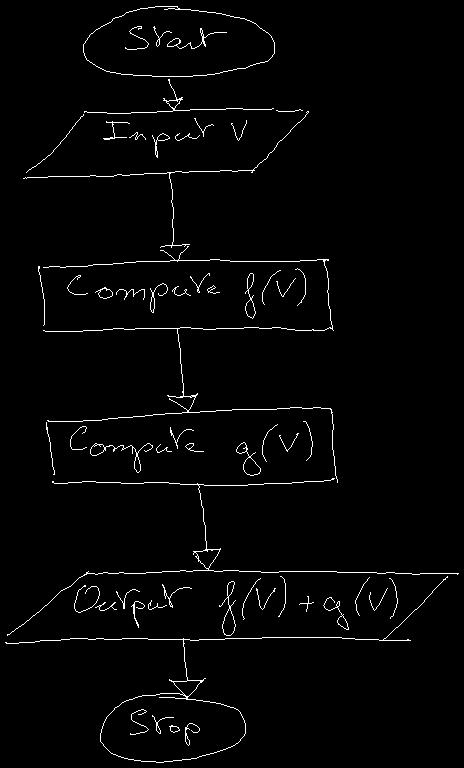arrow: (160, 173, 189, 261), (167, 328, 197, 411), (193, 483, 220, 569), (169, 638, 205, 698), (163, 79, 182, 110)
data: (5, 570, 458, 643), (23, 108, 308, 178)
process: (46, 407, 337, 485), (38, 259, 333, 331)
terminator: (83, 6, 274, 76), (100, 693, 245, 762)
text: (74, 576, 397, 635), (70, 421, 312, 475), (67, 268, 305, 318), (103, 118, 246, 157), (130, 709, 199, 745), (125, 26, 226, 49)
